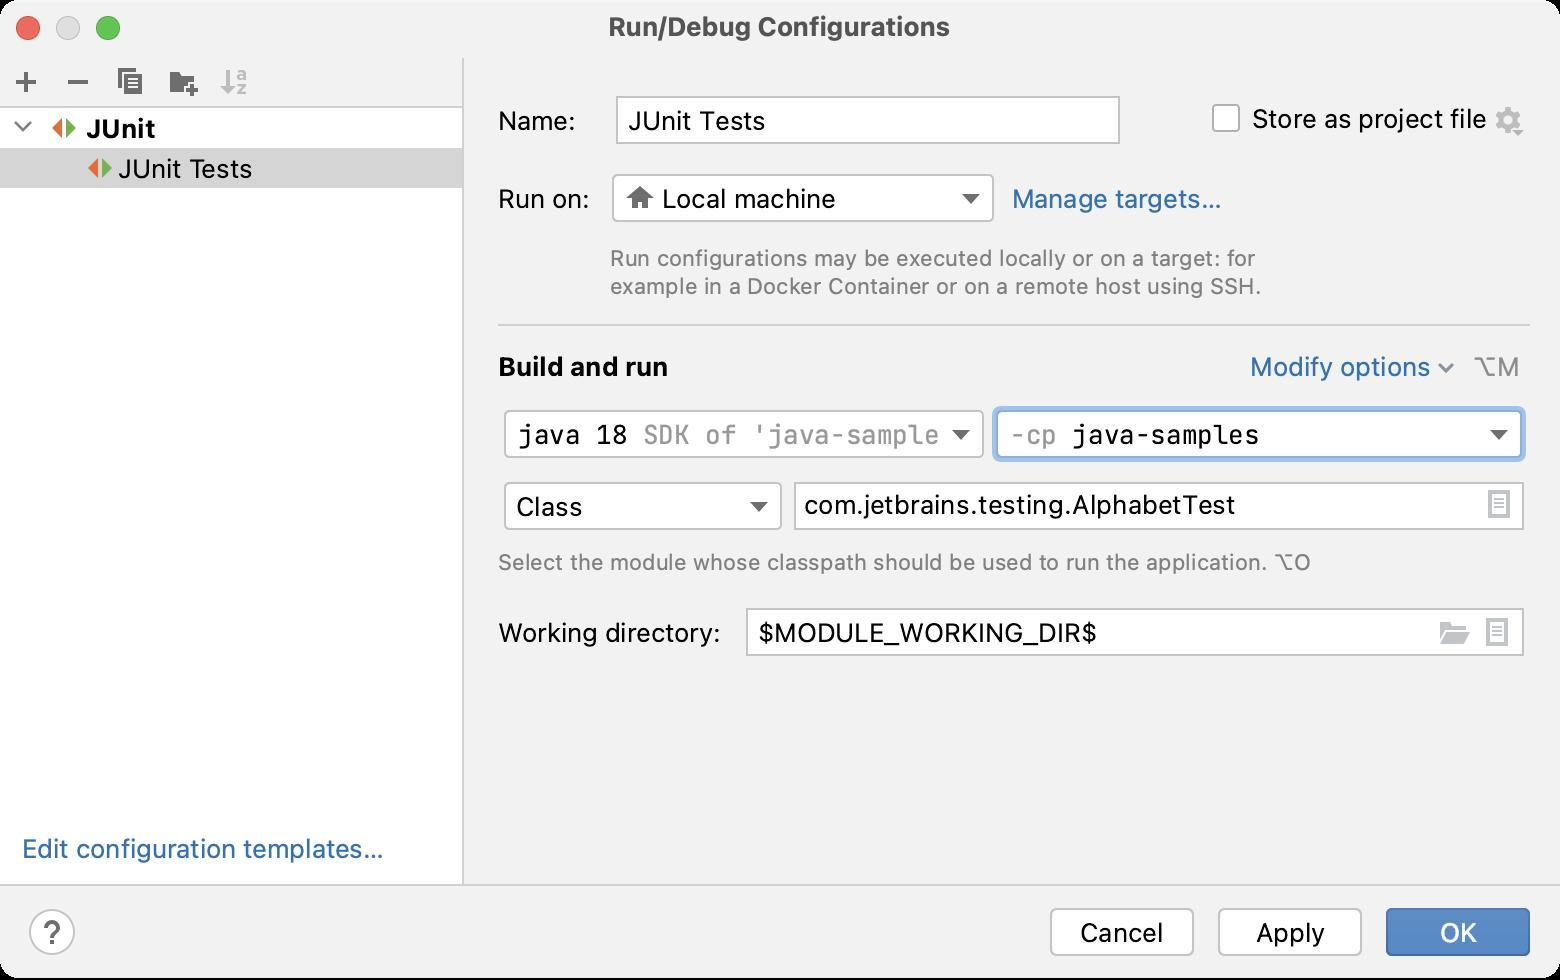button: (1, 150, 465, 187), (1387, 909, 1531, 959), (1052, 910, 1193, 957), (1220, 910, 1362, 956)
checkbox: (1212, 105, 1242, 135)
dropdown: (994, 406, 1526, 462), (507, 412, 984, 457), (1, 110, 463, 151), (615, 175, 994, 221), (506, 484, 783, 531), (1242, 353, 1460, 387)
icon: (24, 907, 82, 961), (216, 63, 256, 104), (163, 63, 202, 104), (111, 64, 149, 102), (11, 67, 46, 100), (60, 69, 95, 99), (1495, 106, 1526, 139)
input: (747, 609, 1524, 656), (796, 484, 1525, 530), (617, 96, 1121, 143)
label: (597, 12, 965, 43), (1252, 104, 1490, 138), (496, 620, 725, 649), (498, 353, 672, 382), (498, 186, 594, 216), (499, 110, 579, 135)
